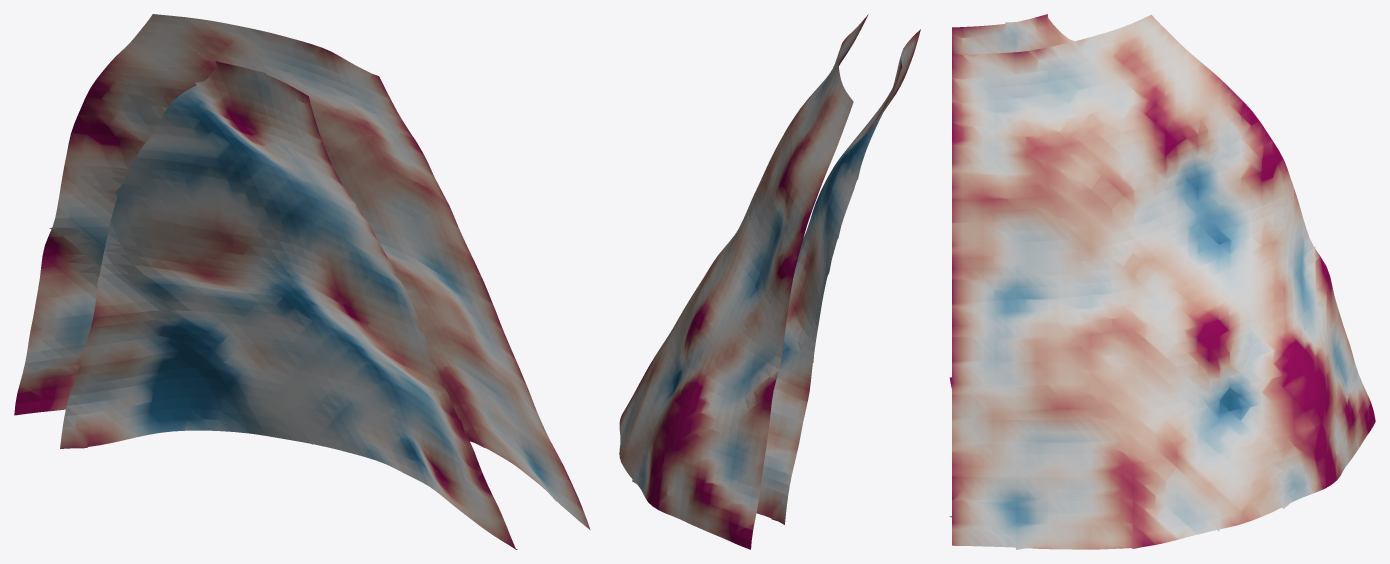
File: crop1046_deviation.glb
The picture shows the model from 3 angles, left to right: view 1: azimuth 30°, elevation 25°; view 2: azimuth 150°, elevation 25°; view 3: azimuth 270°, elevation 25°; orthographic projection. The views are drawn at different scales.
Parts seen in each view (by area): view 1: world; view 2: world; view 3: world.
Part boxes in pixels (x1,y1,x2,y2): world: [14, 14, 590, 549]; world: [619, 14, 920, 549]; world: [949, 14, 1375, 549].
Bounding box in the file's own units: 457 × 679 × 638.
